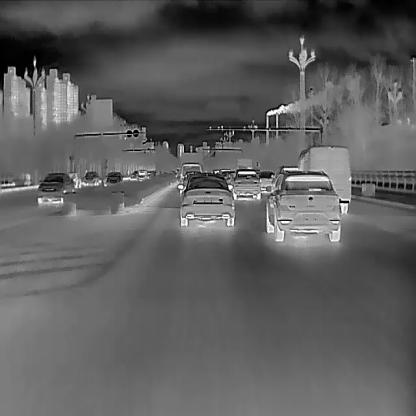car: (265, 167, 341, 240), (299, 146, 350, 214), (178, 175, 235, 226), (35, 171, 72, 204), (231, 170, 260, 200), (179, 170, 201, 196), (180, 160, 201, 184), (255, 170, 275, 193), (80, 170, 99, 187), (103, 172, 121, 186), (136, 168, 149, 180)
truck: (235, 157, 251, 176)
